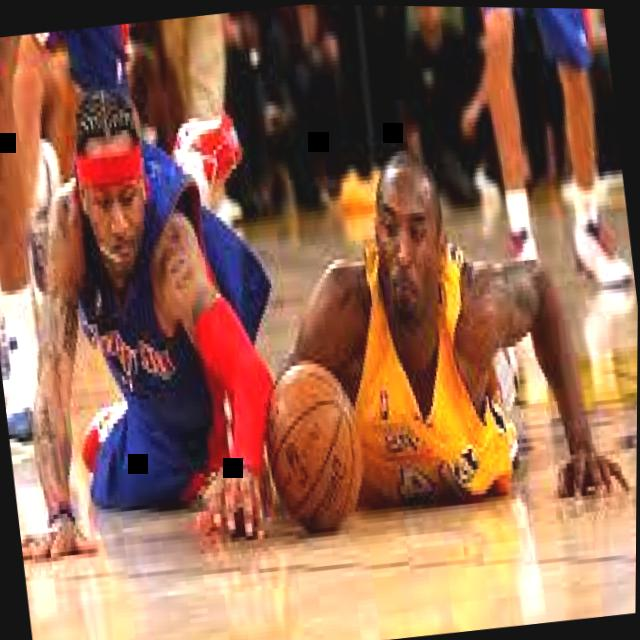Fall-Detected: (0, 44, 308, 571)
